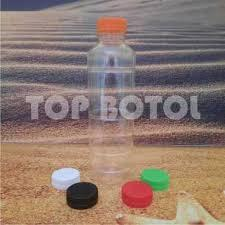BIODEGRADABLE: (81, 9, 138, 179)
